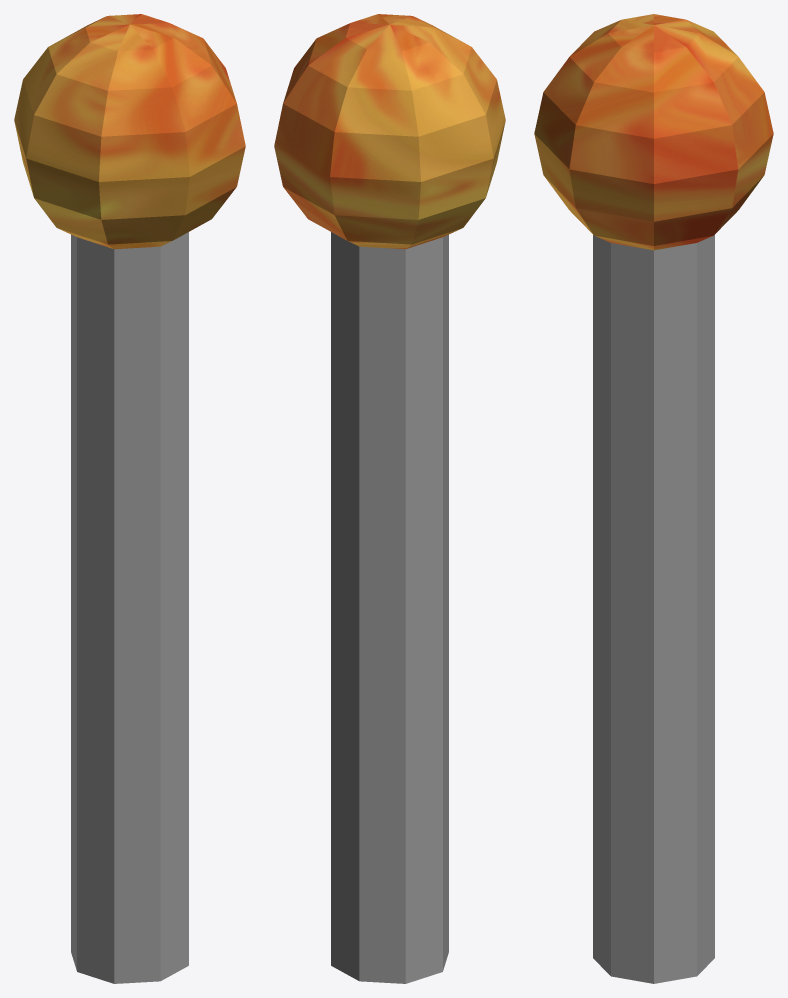
Rendered from Cajado.fbx.
3 renders of one model, left to right at view 1: azimuth 30°, elevation 25°; view 2: azimuth 150°, elevation 25°; view 3: azimuth 270°, elevation 25°, orthographic.
Visible parts, largest first — view 1: pCylinder1, pSphere1; view 2: pCylinder1, pSphere1; view 3: pCylinder1, pSphere1.
Part boxes in pixels (box(x1,y1,x2,y2)): pCylinder1: box(71, 232, 188, 983); pSphere1: box(14, 14, 245, 249); pCylinder1: box(331, 232, 448, 983); pSphere1: box(274, 14, 505, 249); pCylinder1: box(593, 235, 714, 983); pSphere1: box(534, 14, 773, 250).
Bounding box in the file's own units: 3.93 × 16.9 × 3.93.
